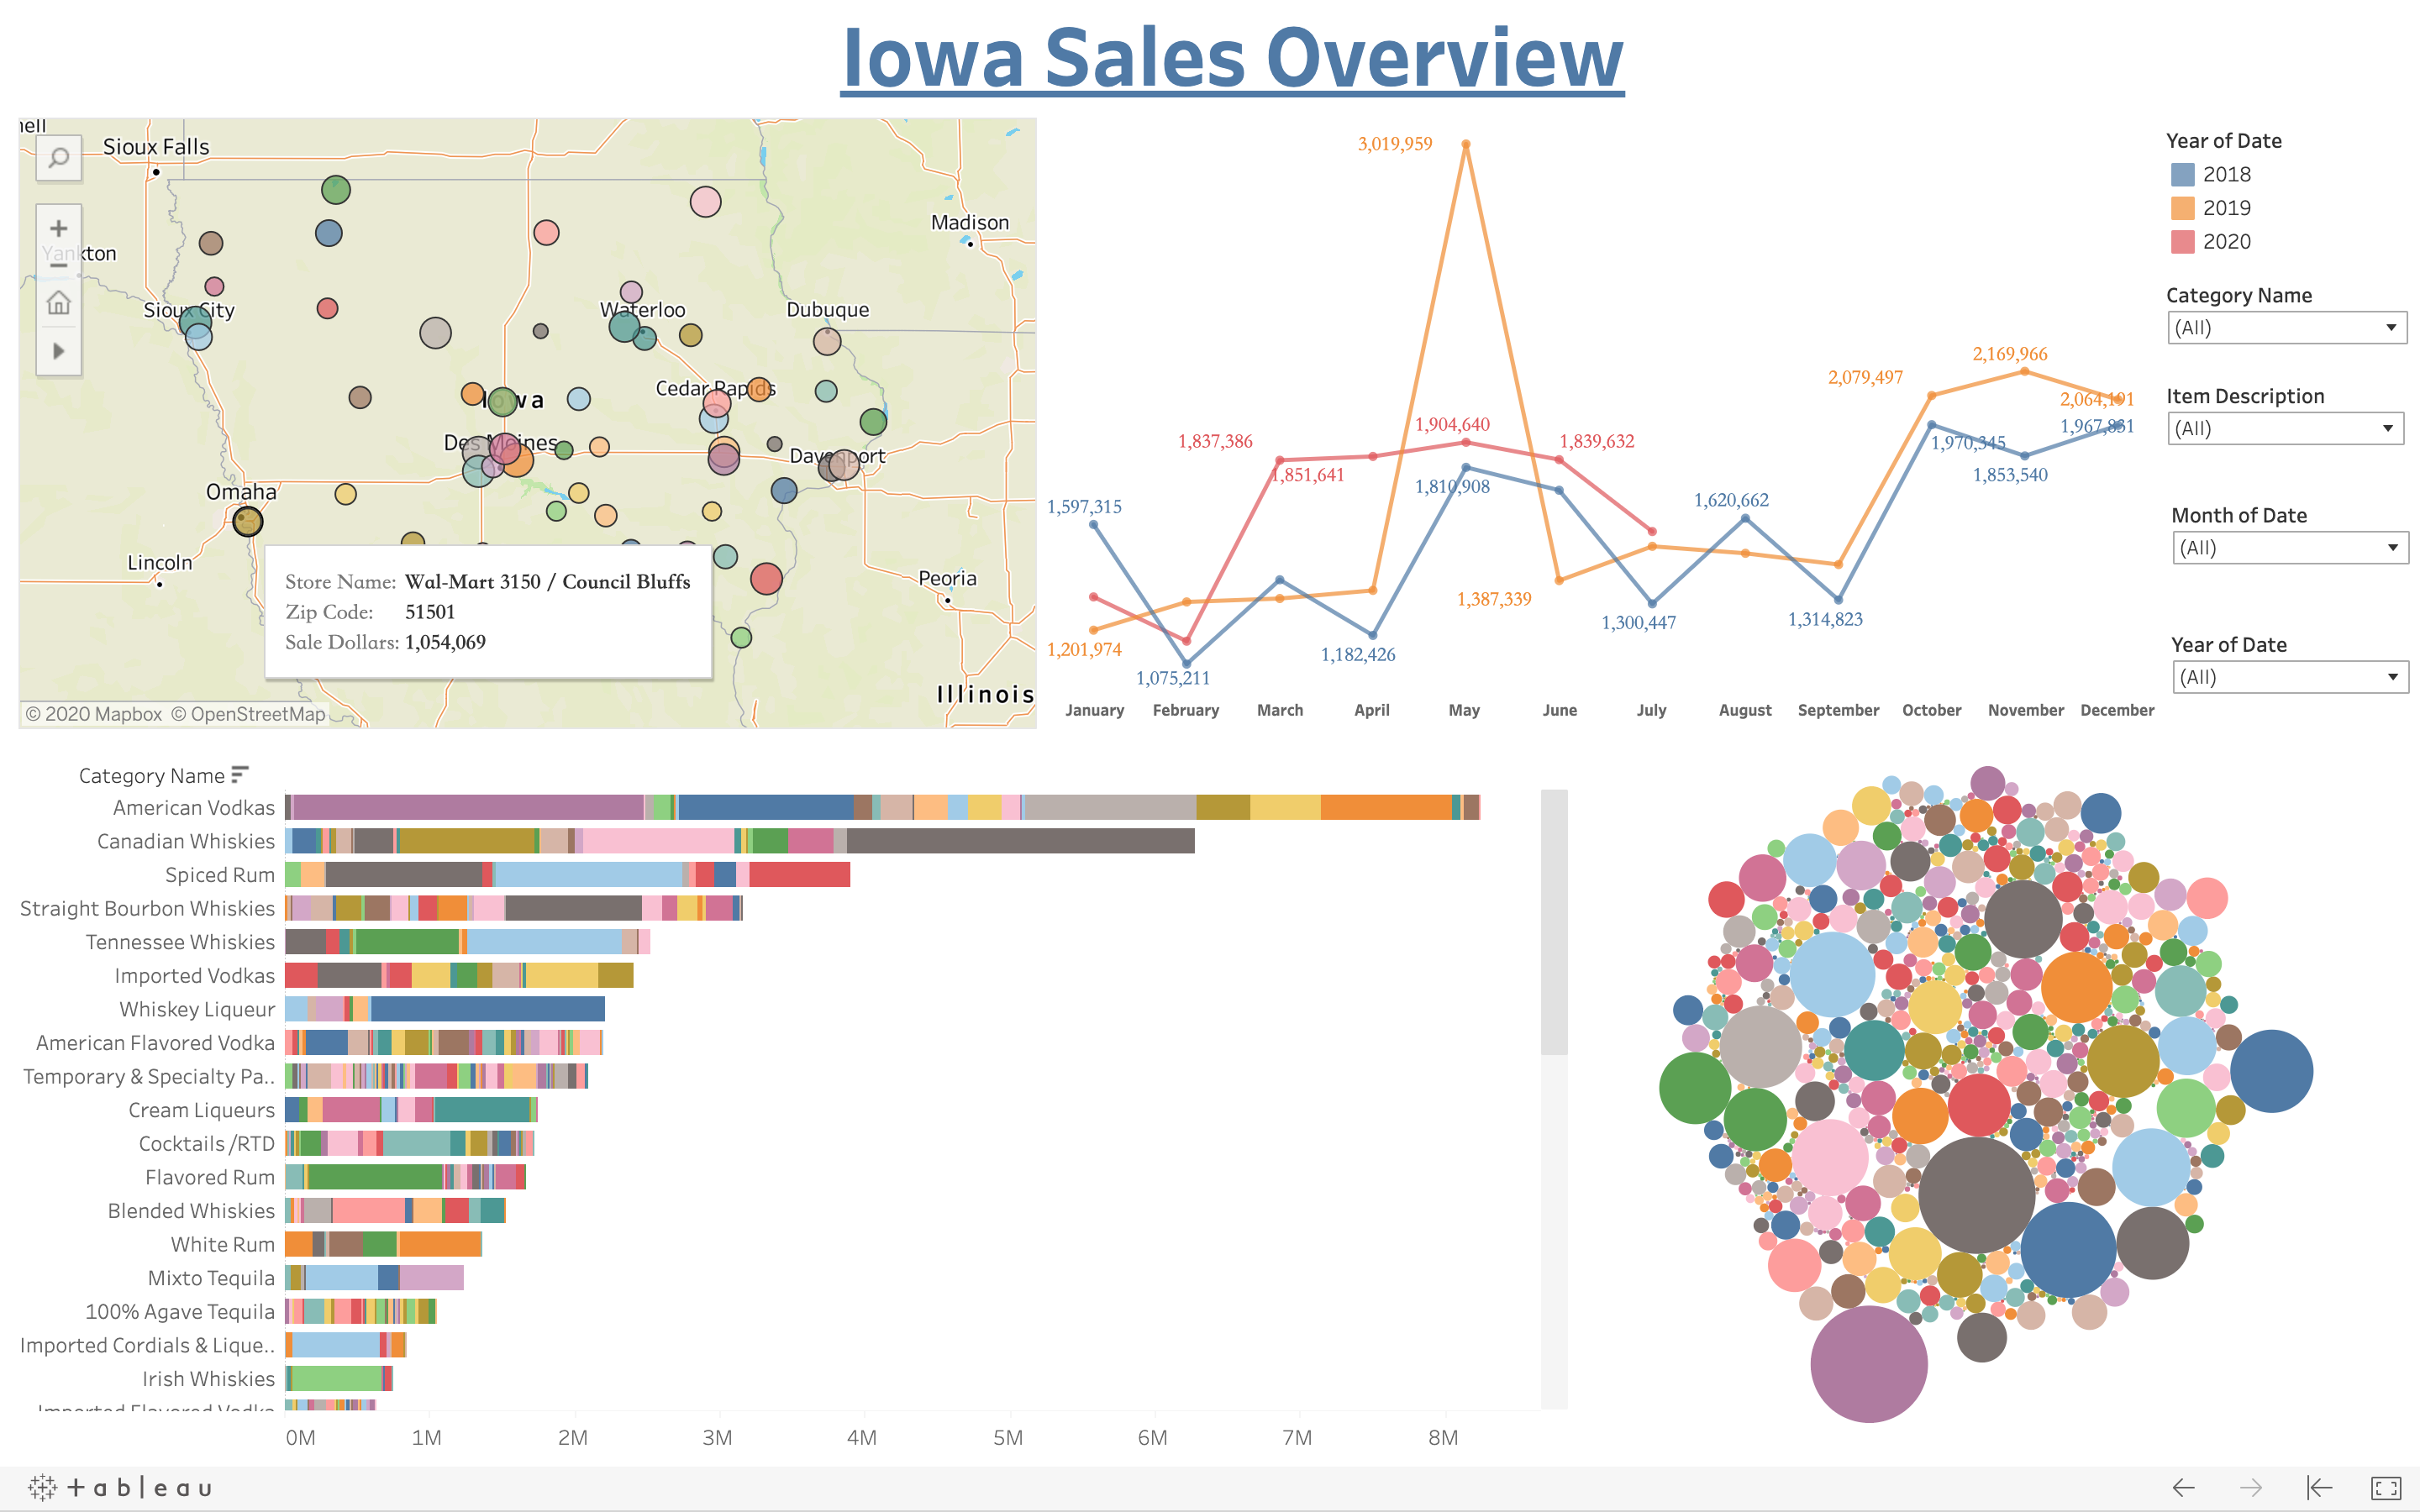

This screenshot's page, from the dashboard's own definition file:
{"tool":"tableau","page":{"name":"Dashboard 1","canvas":[1000,1000],"units":"permille","ordinal":0},"visuals":[{"type":"worksheet","title":"Sales_Month_Year","mark":"Automatic","rows":["sale_dollars"],"cols":["date"],"box":[432.9,79.2,461.4,415.8]},{"type":"worksheet","title":"GEO","mark":"Automatic","box":[7.3,80.5,421.5,417.1]},{"type":"worksheet","title":"Sales_Month_Year","mark":"Automatic","rows":["sale_dollars"],"cols":["date"],"param":"[federated.1tauzxj193c2hd10bppdr13nkt9c].[yr:date:ok]","box":[895,85.4,74.9,99]},{"type":"worksheet","title":"Item_Month_Sales","mark":"Circle","param":"[federated.1tauzxj193c2hd10bppdr13nkt9c].[none:category_name:nk]","box":[895,190.6,100.9,55.7]},{"type":"worksheet","title":"Sales_Month_Year","mark":"Automatic","rows":["sale_dollars"],"cols":["date"],"param":"[federated.1tauzxj193c2hd10bppdr13nkt9c].[none:item_description:nk]","box":[895,258.7,99.3,56.9]},{"type":"worksheet","title":"Item_Month_Sales","mark":"Circle","param":"[federated.1tauzxj193c2hd10bppdr13nkt9c].[mn:date:ok]","box":[897.5,340.4,99.3,55.7]},{"type":"worksheet","title":"Item_Month_Sales","mark":"Circle","param":"[federated.1tauzxj193c2hd10bppdr13nkt9c].[yr:date:ok]","box":[897.5,428.2,99.3,63.1]},{"type":"worksheet","title":"Breakdown_Cat_Item","mark":"Automatic","rows":["category_name"],"cols":["sale_dollars"],"box":[6.5,515.3,642.8,479.6]},{"type":"worksheet","title":"Item_Month_Sales","mark":"Circle","box":[660.7,522.9,320.6,447.8]}]}

Visuals, with their boxes on the dashboard's canvas, which has no fixed pixel size, in thousandths of its width and height (x1, y1, x2, y2). These are canvas units, not pixel positions in the 2420x1512 screenshot, which may show the page scaled, cropped or inside an application window:
"Sales_Month_Year" worksheet: bbox=(433, 79, 894, 495)
"GEO" worksheet: bbox=(7, 80, 429, 498)
"Sales_Month_Year" worksheet: bbox=(895, 85, 970, 184)
"Item_Month_Sales" worksheet (Circle marks): bbox=(895, 191, 996, 246)
"Sales_Month_Year" worksheet: bbox=(895, 259, 994, 316)
"Item_Month_Sales" worksheet (Circle marks): bbox=(898, 340, 997, 396)
"Item_Month_Sales" worksheet (Circle marks): bbox=(898, 428, 997, 491)
"Breakdown_Cat_Item" worksheet: bbox=(6, 515, 649, 995)
"Item_Month_Sales" worksheet (Circle marks): bbox=(661, 523, 981, 971)
